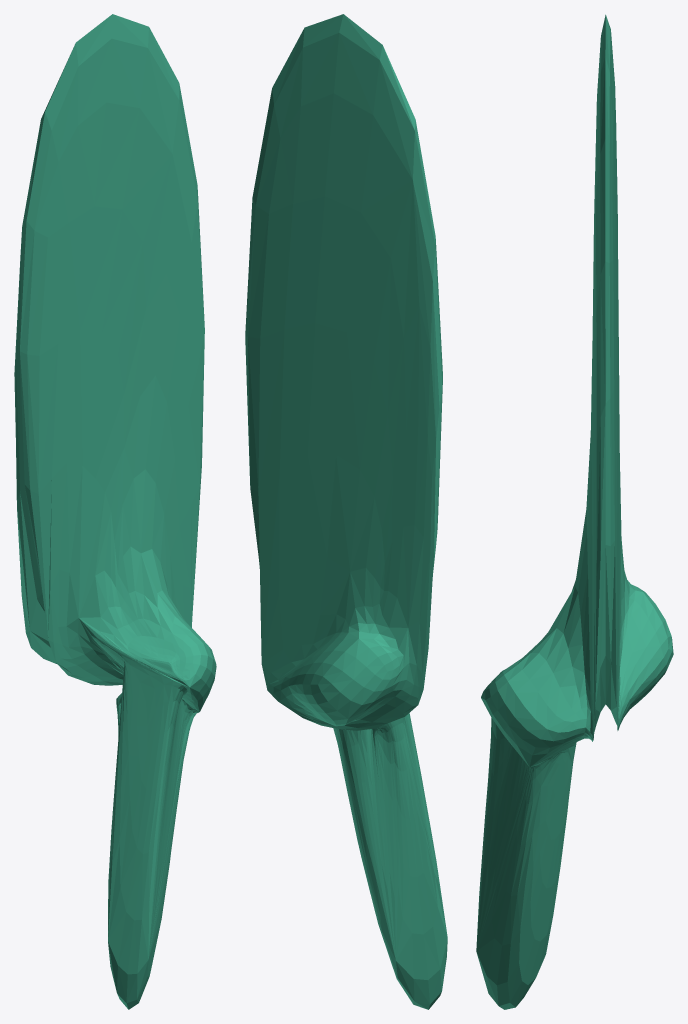
3 views of the same model, side by side, from view 1: azimuth 30°, elevation 25°; view 2: azimuth 150°, elevation 25°; view 3: azimuth 270°, elevation 25° (orthographic). The views are drawn at different scales.
Parts seen in each view (by area): view 1: 134_Cube.556; view 2: 134_Cube.556; view 3: 134_Cube.556.
Part boxes in pixels (x1,y1,x2,y2): 134_Cube.556: (14,14,216,1009); 134_Cube.556: (245,14,447,1009); 134_Cube.556: (476,14,673,1009).
Size of the model in its own units: 3.24 by 15.89 by 2.81.
